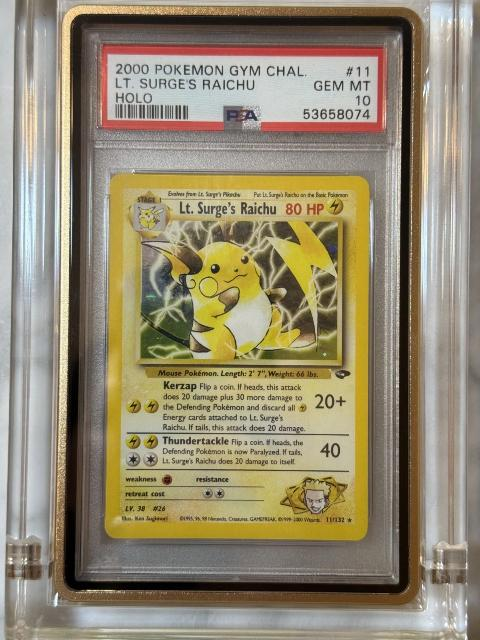Card: (101, 169, 373, 546)
Name: (174, 198, 279, 220)
